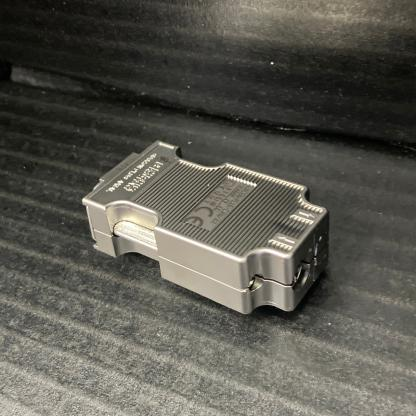SP0000010: (51, 122, 357, 341)
